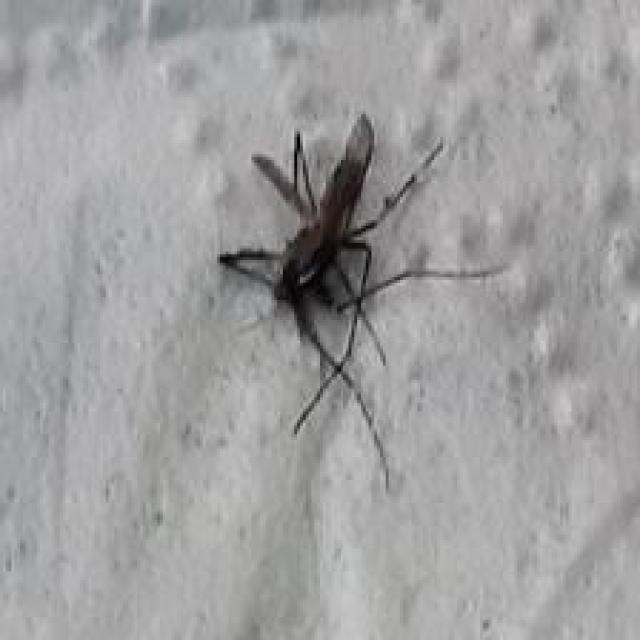Aedes albopictus: (216, 110, 507, 493)
